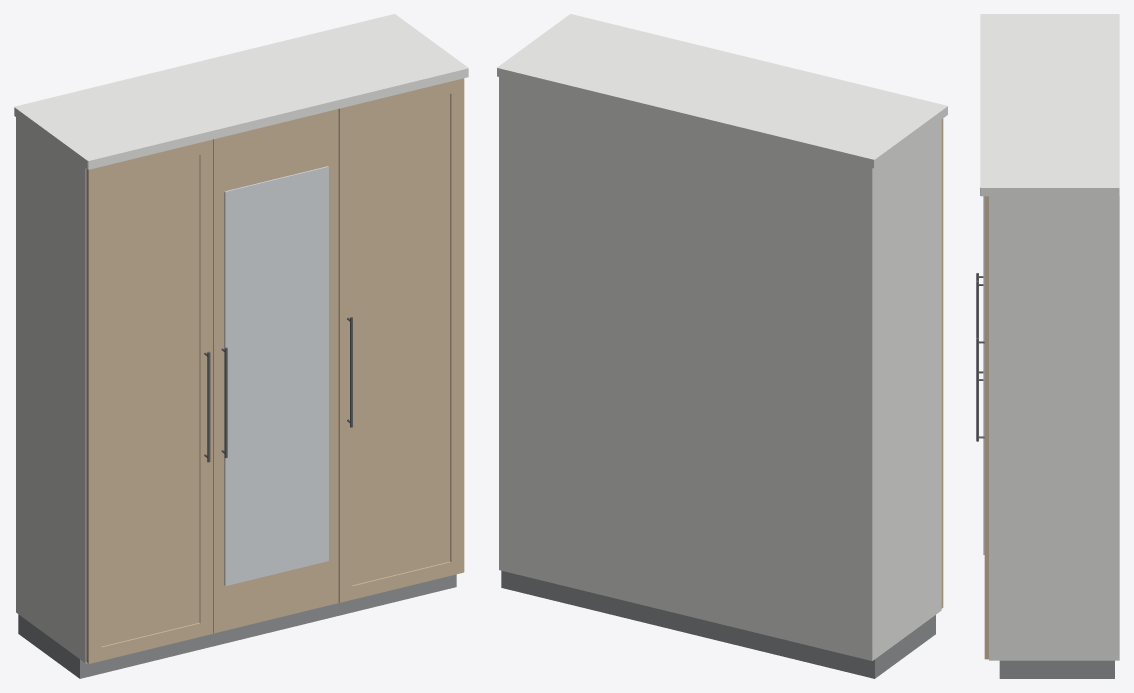
3 views of the same model, side by side, from view 1: azimuth 30°, elevation 25°; view 2: azimuth 150°, elevation 25°; view 3: azimuth 270°, elevation 25° (orthographic). The views are drawn at different scales.
Visible parts, largest first — view 1: Tủ áo cánh mở Chiều rộng=1800; Chiều sâu=600; view 2: Tủ áo cánh mở Chiều rộng=1800; Chiều sâu=600; view 3: Tủ áo cánh mở Chiều rộng=1800; Chiều sâu=600.
Boxes of the visible parts, left/top/right/bottom form: Tủ áo cánh mở Chiều rộng=1800; Chiều sâu=600: left=14, top=14, right=468, bottom=678; Tủ áo cánh mở Chiều rộng=1800; Chiều sâu=600: left=497, top=14, right=947, bottom=678; Tủ áo cánh mở Chiều rộng=1800; Chiều sâu=600: left=976, top=14, right=1119, bottom=678.
Size of the model in its own units: 1.82 by 2.4 by 0.633.
